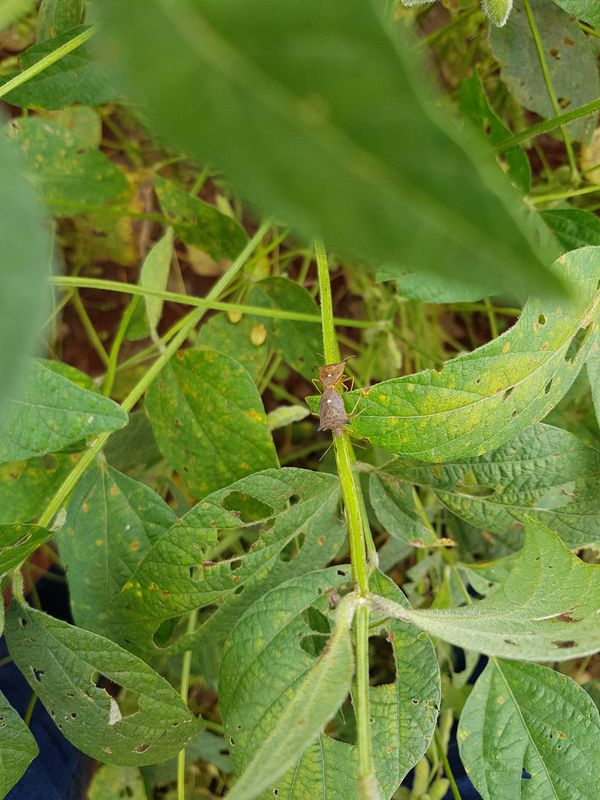Euschistus_heros_adulto: (306, 390, 362, 441), (305, 348, 357, 389)
Euschistus_heros_ninfa: (244, 321, 273, 350)
